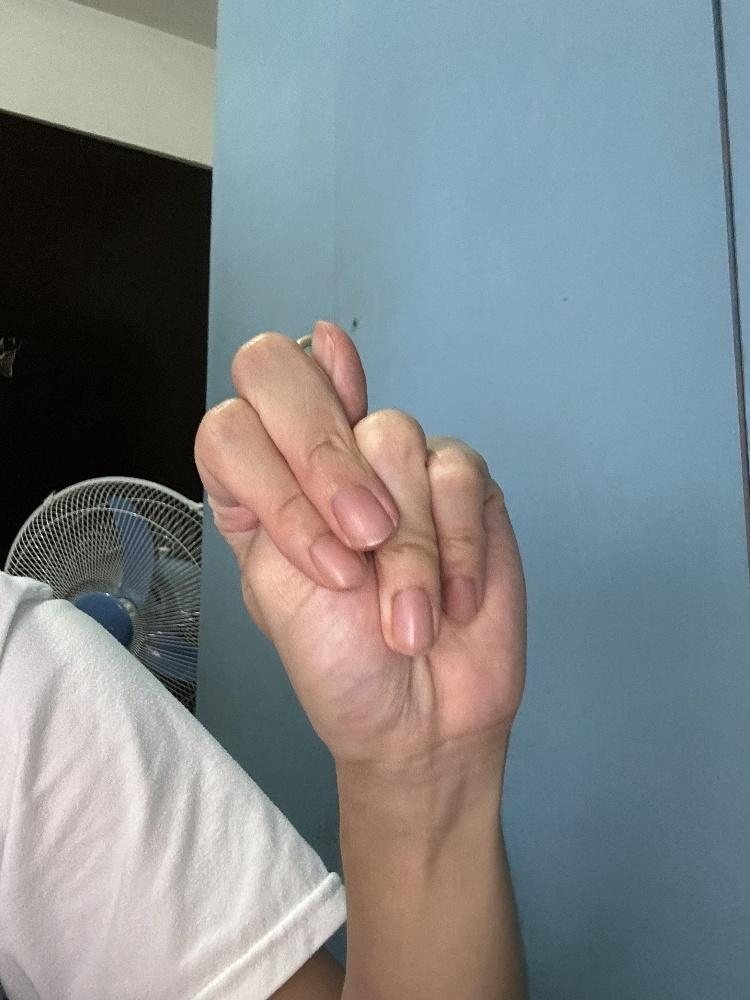n: (188, 311, 530, 781)
